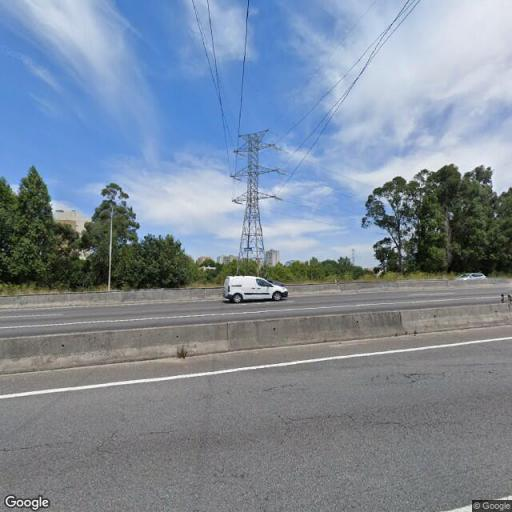ss_3: (230, 131, 280, 268)
